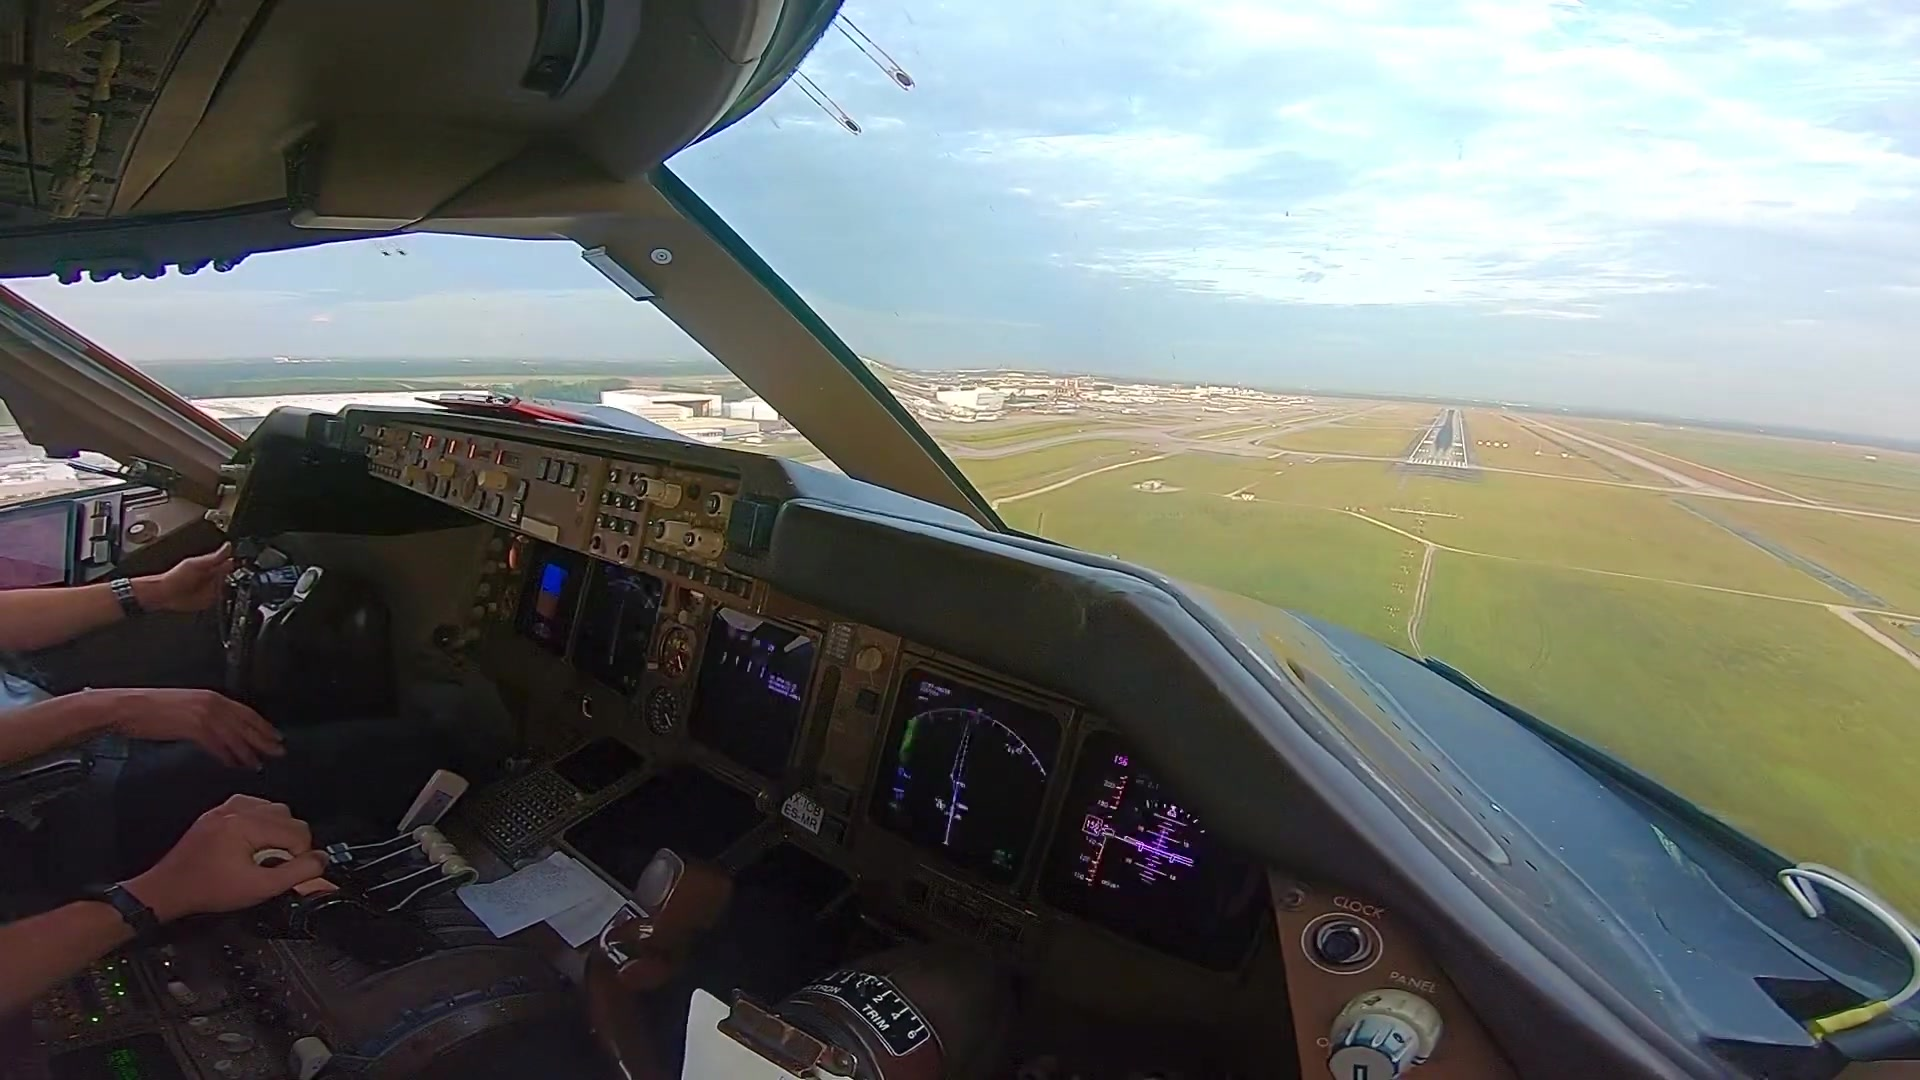entrance: (1411, 458, 1466, 468)
runway: (1410, 406, 1469, 471)
